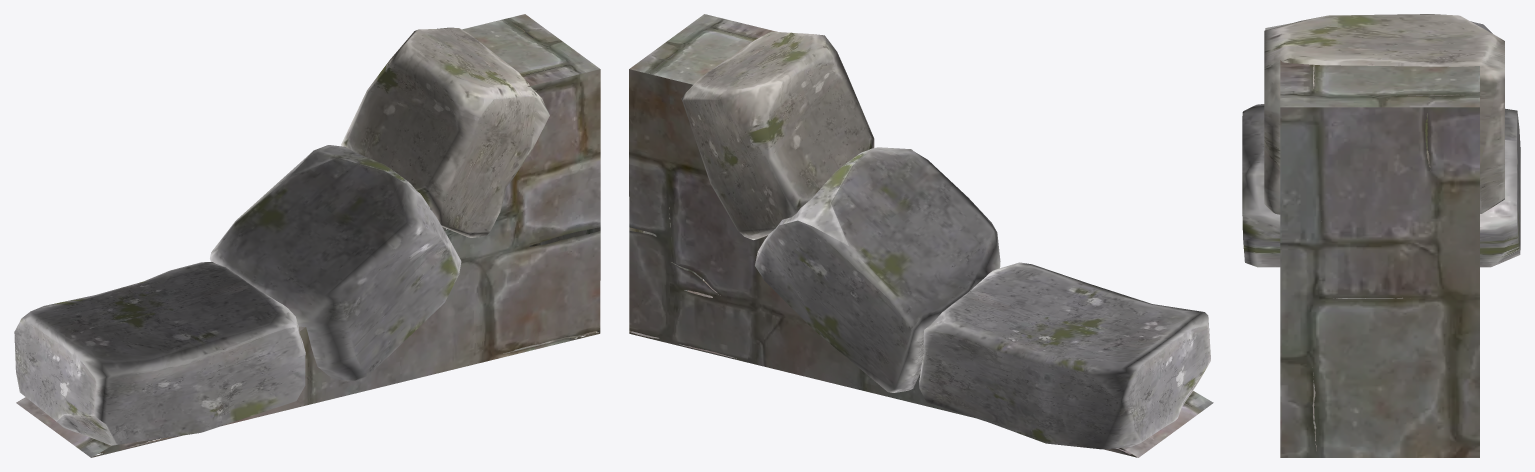
3 renders of one model, left to right at view 1: azimuth 30°, elevation 25°; view 2: azimuth 150°, elevation 25°; view 3: azimuth 270°, elevation 25°, orthographic. The views are drawn at different scales.
Visible parts, largest first — view 1: SM_BB_T3_Wall_Slanted_Med_Shallow_Curved_LOD0; view 2: SM_BB_T3_Wall_Slanted_Med_Shallow_Curved_LOD0; view 3: SM_BB_T3_Wall_Slanted_Med_Shallow_Curved_LOD0.
Part boxes in pixels (bbox=[...]): SM_BB_T3_Wall_Slanted_Med_Shallow_Curved_LOD0: bbox=[14, 14, 600, 457]; SM_BB_T3_Wall_Slanted_Med_Shallow_Curved_LOD0: bbox=[629, 14, 1213, 457]; SM_BB_T3_Wall_Slanted_Med_Shallow_Curved_LOD0: bbox=[1242, 14, 1520, 457].
Size of the model in its own units: 1.5 by 0.7738 by 0.5357.
Materials: 2 (2 with a texture image).
